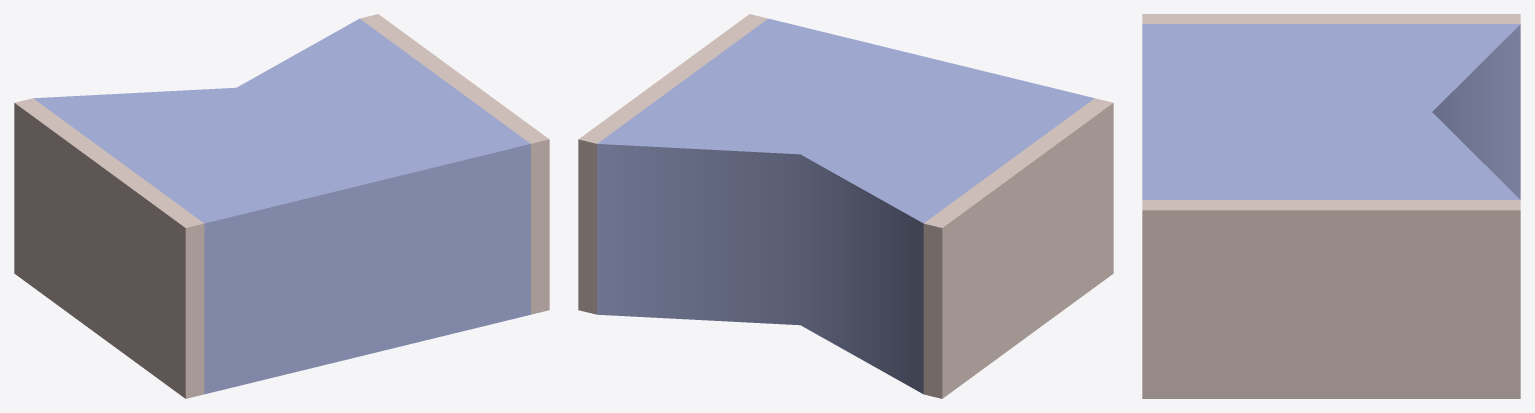
File: ENV_Finish_Triangluar.fbx
3 renders of one model, left to right at view 1: azimuth 30°, elevation 25°; view 2: azimuth 150°, elevation 25°; view 3: azimuth 270°, elevation 25°, orthographic. The views are drawn at different scales.
Parts seen in each view (by area): view 1: ENV_Finish_Triangluar; view 2: ENV_Finish_Triangluar; view 3: ENV_Finish_Triangluar.
Part boxes in pixels (x1,y1,x2,y2): ENV_Finish_Triangluar: (14,14,549,398); ENV_Finish_Triangluar: (578,14,1113,398); ENV_Finish_Triangluar: (1142,14,1520,398).
Bounding box in the file's own units: 495 × 222 × 404.
